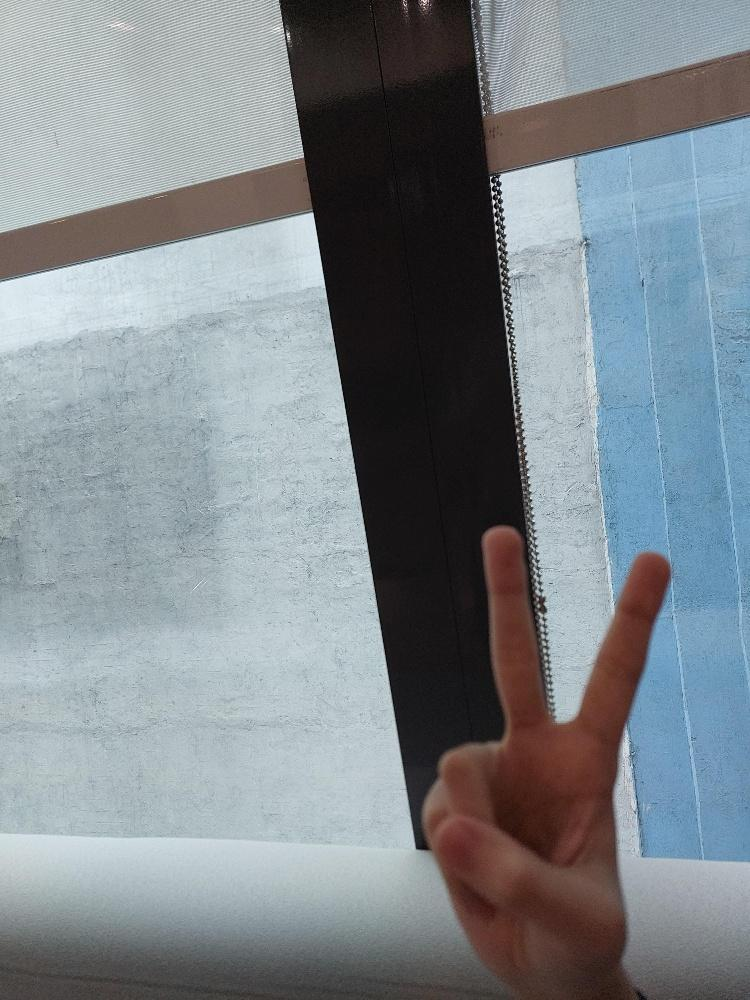v: (418, 523, 671, 999)
